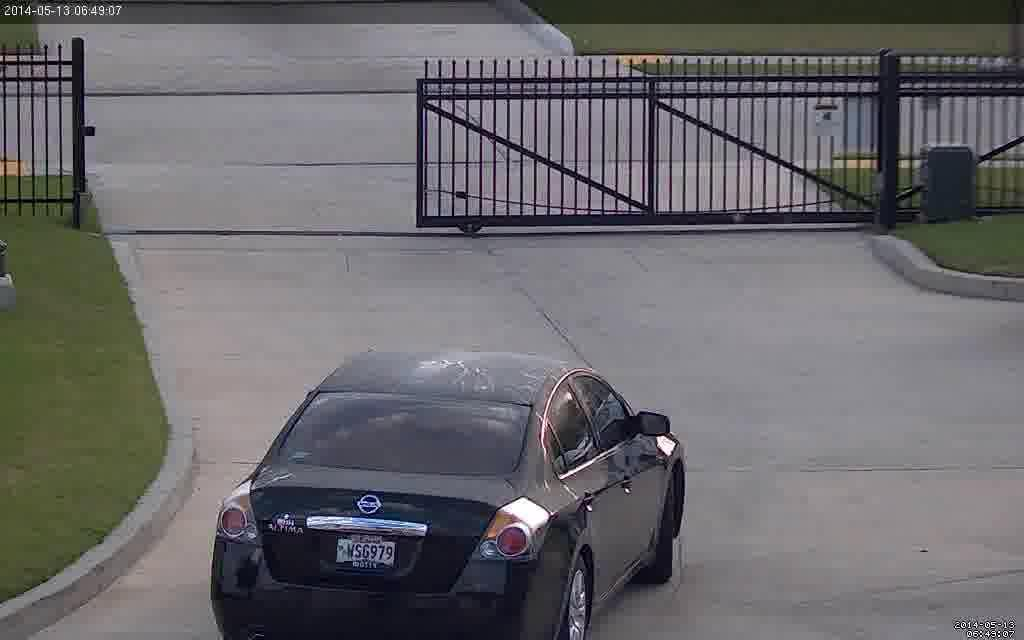placa de veiculo: (317, 516, 417, 586)
